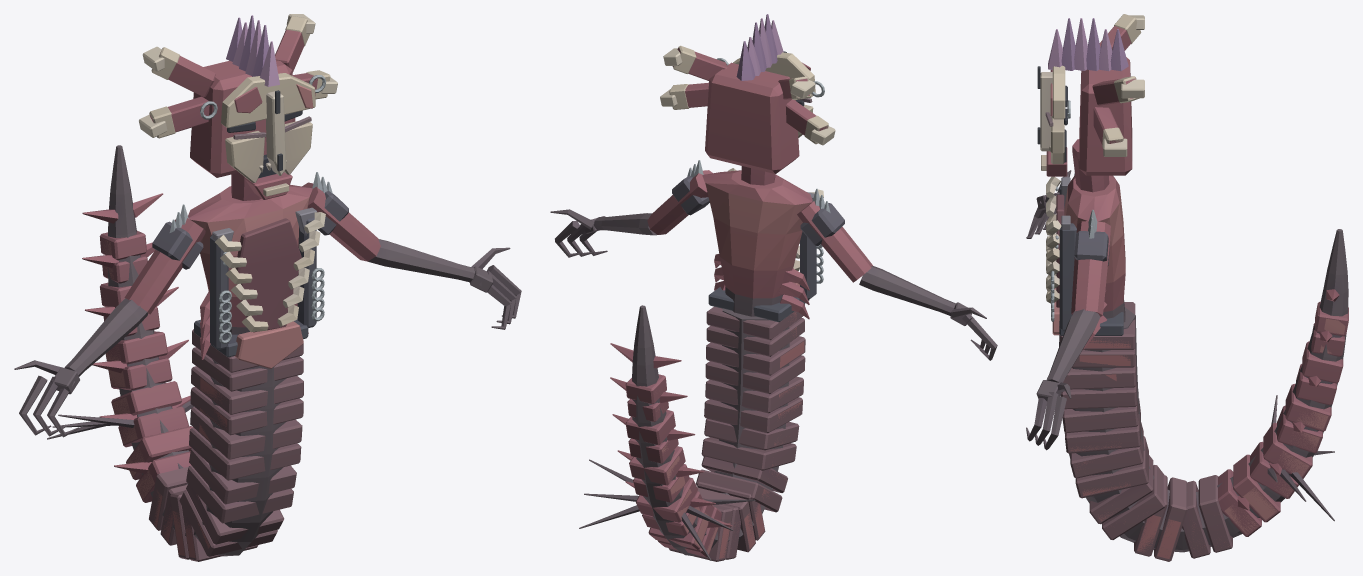
File: DredgePunk.glb
The picture shows the model from 3 angles, left to right: view 1: azimuth 30°, elevation 25°; view 2: azimuth 150°, elevation 25°; view 3: azimuth 270°, elevation 25°; orthographic projection. The views are drawn at different scales.
Visible parts, largest first — view 1: Body, Head, ArmR, ArmL; view 2: Body, Head, ArmR, ArmL; view 3: Body, Head, ArmL, ArmR.
Part boxes in pixels (x1,y1,x2,y2): Body: (47,145,325,561); Head: (139,14,337,200); ArmR: (14,204,205,437); ArmL: (302,172,521,329); Body: (579,168,823,561); Head: (660,14,835,185); ArmR: (797,188,997,360); ArmL: (550,160,712,257); Body: (1046,175,1348,561); Head: (1037,14,1144,192); ArmL: (1026,210,1110,450); ArmR: (1026,170,1074,238).
Bounding box in the file's own units: 6.83 × 7.37 × 4.04.
